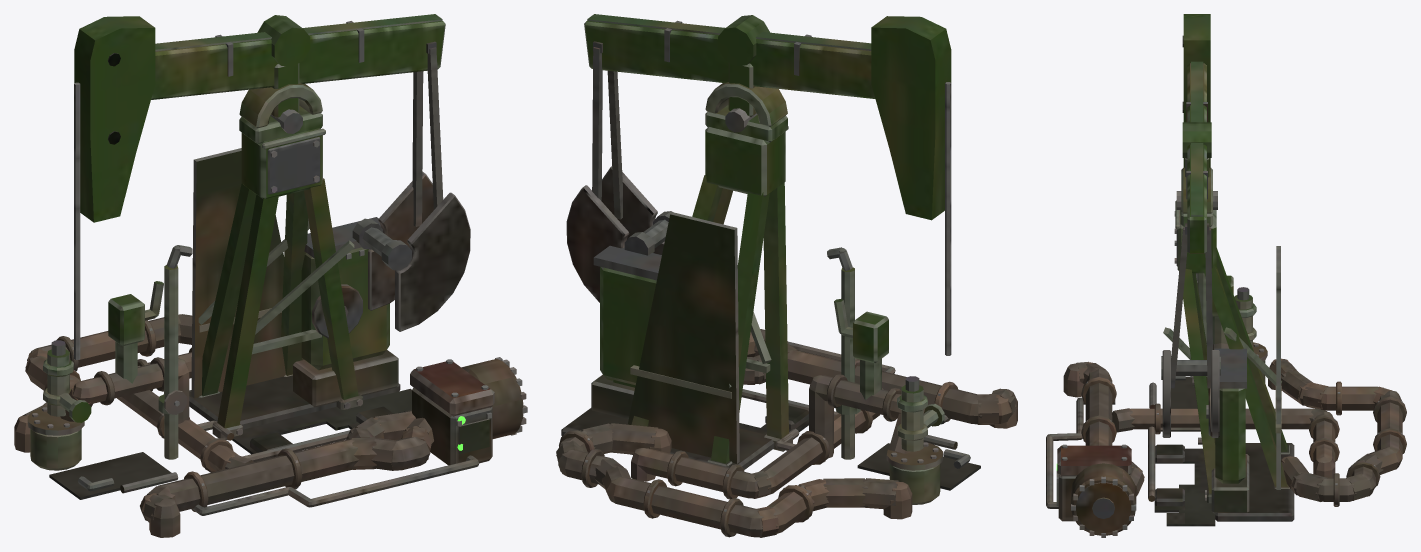
Rendered from pumpjack-east.glb.
The picture shows the model from 3 angles, left to right: view 1: azimuth 30°, elevation 25°; view 2: azimuth 150°, elevation 25°; view 3: azimuth 270°, elevation 25°; orthographic projection. The views are drawn at different scales.
Parts seen in each view (by area): view 1: anim_upright_still, body, anim_upright_rock_beam, anim_upright_spin_crank; view 2: anim_upright_still, anim_upright_rock_beam, body, anim_upright_spin_crank; view 3: anim_upright_still, body, anim_upright_rock_beam, anim_upright_spin_crank.
Part boxes in pixels (x1,y1,x2,y2): anim_upright_still: (27,41,443,499); body: (14,314,527,537); anim_upright_rock_beam: (74,14,445,222); anim_upright_spin_crank: (352,171,470,331); anim_upright_still: (561,41,980,504); anim_upright_rock_beam: (584,14,951,220); body: (556,329,1017,537); anim_upright_spin_crank: (566,166,672,302); anim_upright_still: (1154,167,1294,526); body: (1046,358,1406,537); anim_upright_rock_beam: (1182,14,1211,253); anim_upright_spin_crank: (1161,350,1220,437).
Bounding box in the file's own units: 3.15 × 3.45 × 2.97.
Materials: 2 (2 with a texture image).
